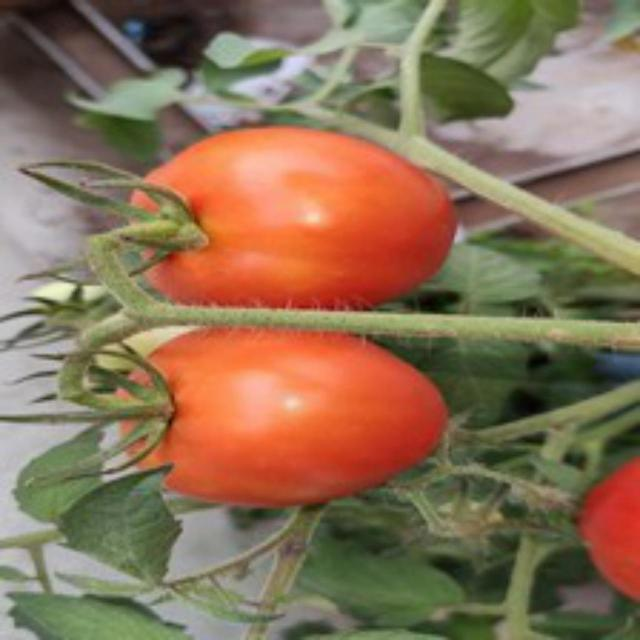tomato: (111, 299, 451, 506), (133, 111, 453, 328)
